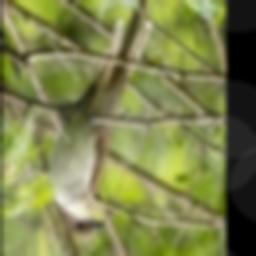Cuckoo: (51, 0, 152, 241)
